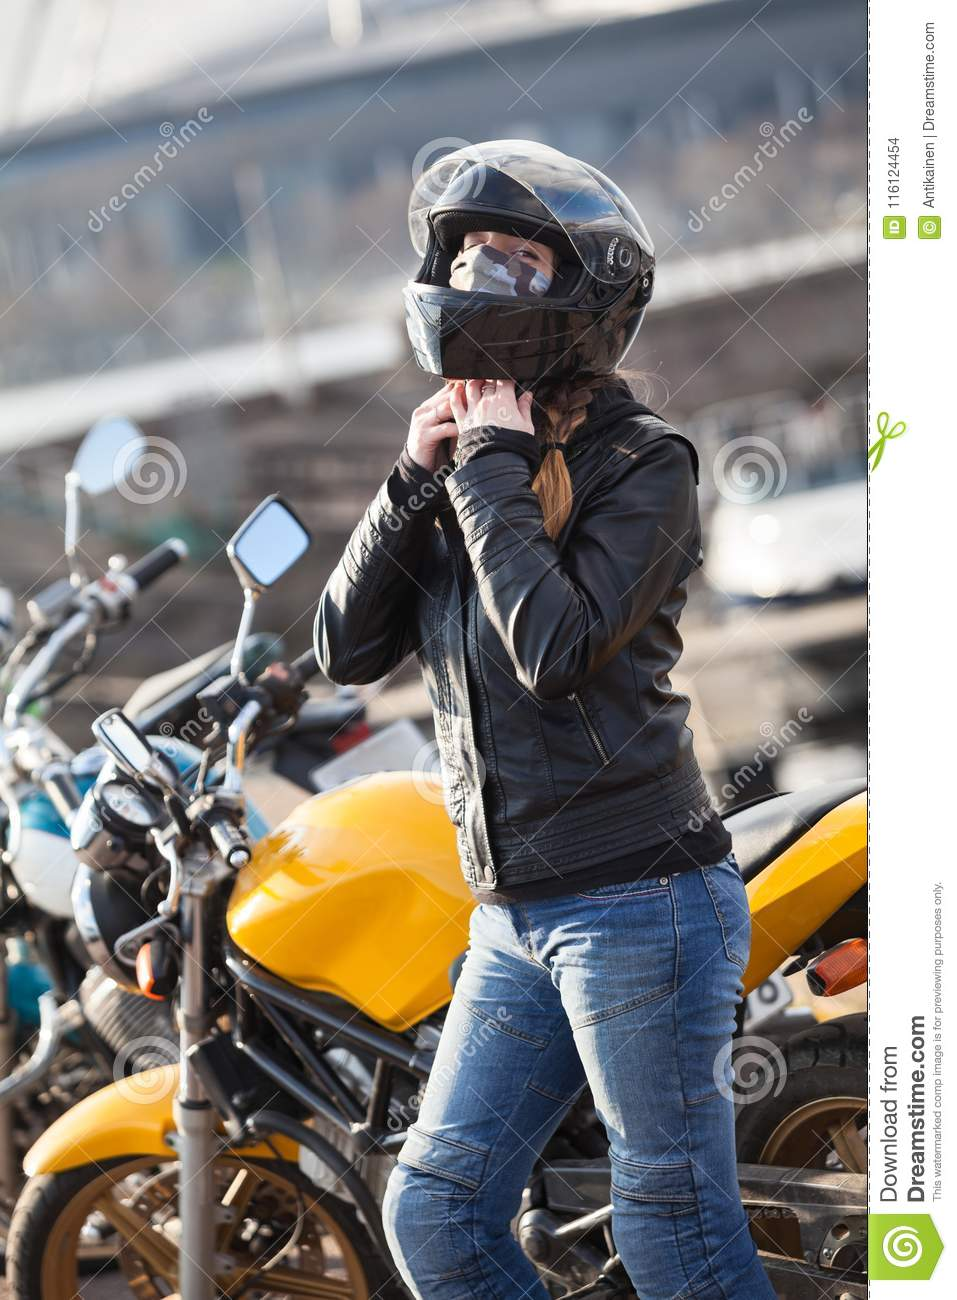helmet: (394, 145, 668, 409)
